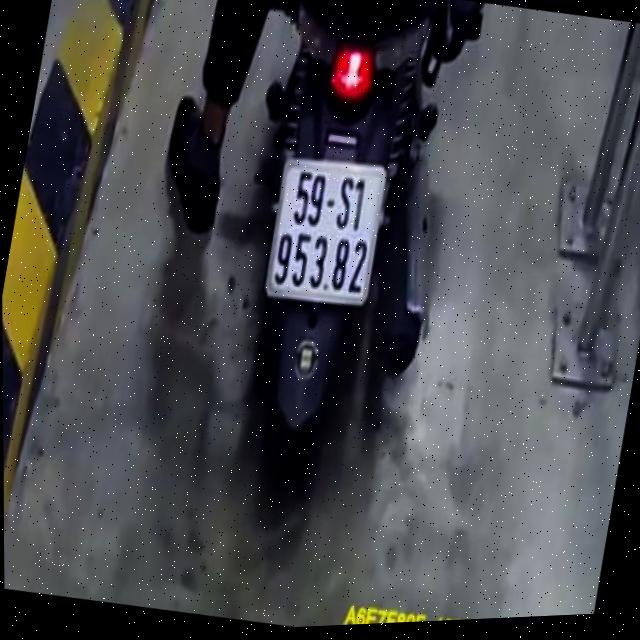motorcycle: (181, 0, 503, 524)
plate: (256, 146, 390, 313)
